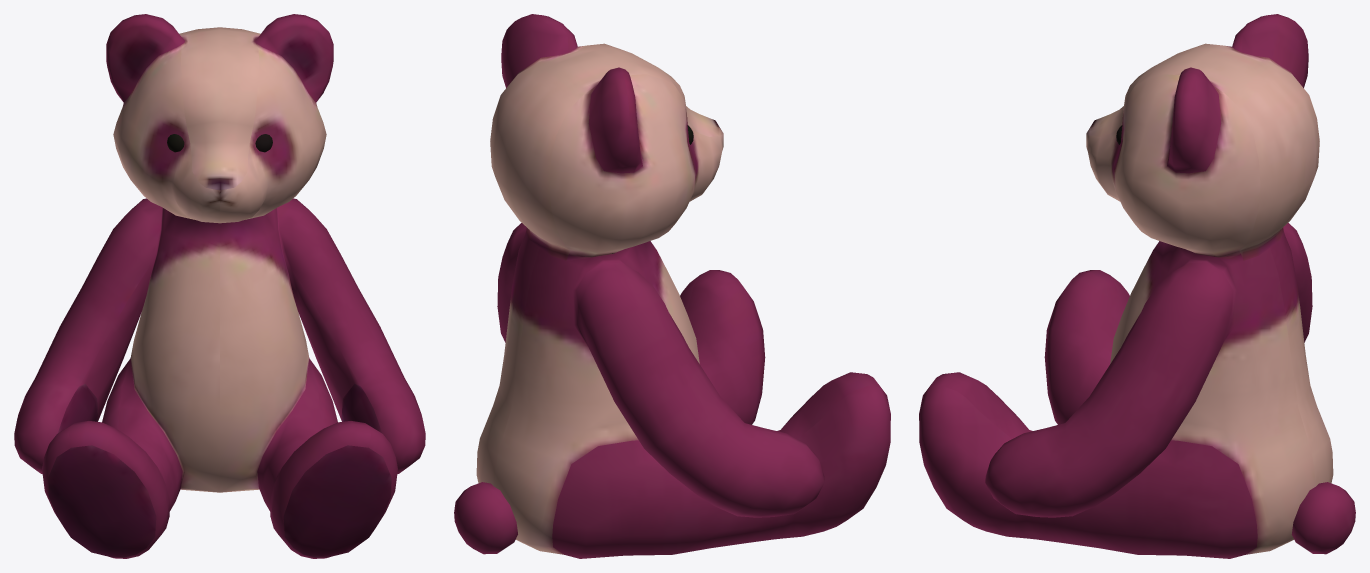
3 renders of one model, left to right at view 1: azimuth 30°, elevation 25°; view 2: azimuth 150°, elevation 25°; view 3: azimuth 270°, elevation 25°, orthographic. The views are drawn at different scales.
Size of the model in its own units: 17.19 by 21.45 by 17.43.
1 material, 1 textured.
